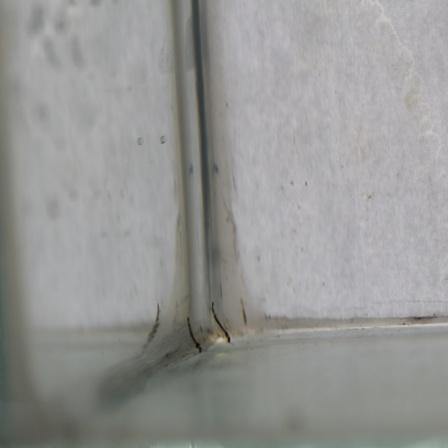Jentik-Nyamuk: (209, 298, 234, 346), (179, 313, 203, 351)
